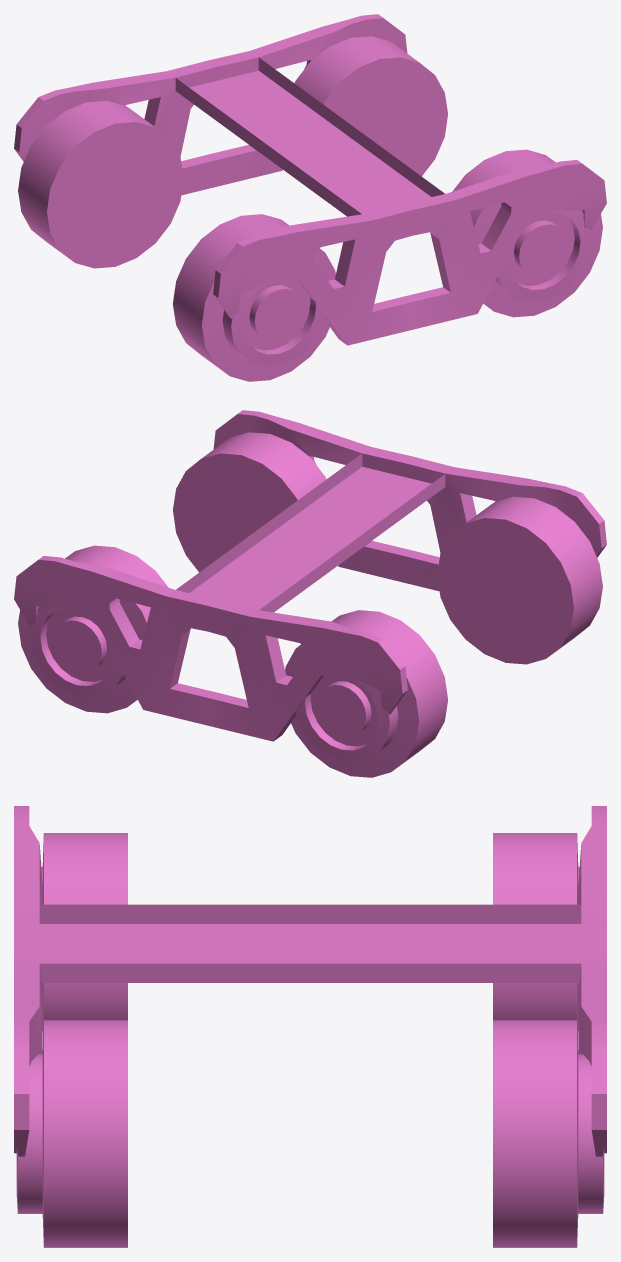
Rendered from NewTrain_wheels.fbx.
3 renders of one model, top to bottom at view 1: azimuth 30°, elevation 25°; view 2: azimuth 150°, elevation 25°; view 3: azimuth 270°, elevation 25°, orthographic. The views are drawn at different scales.
Parts seen in each view (by area): view 1: Wheel; view 2: Wheel; view 3: Wheel.
Part boxes in pixels (bbox=[...]): Wheel: bbox=[14, 14, 606, 381]; Wheel: bbox=[14, 410, 606, 777]; Wheel: bbox=[14, 806, 606, 1247].
Bounding box in the file's own units: 336 × 122 × 296.
